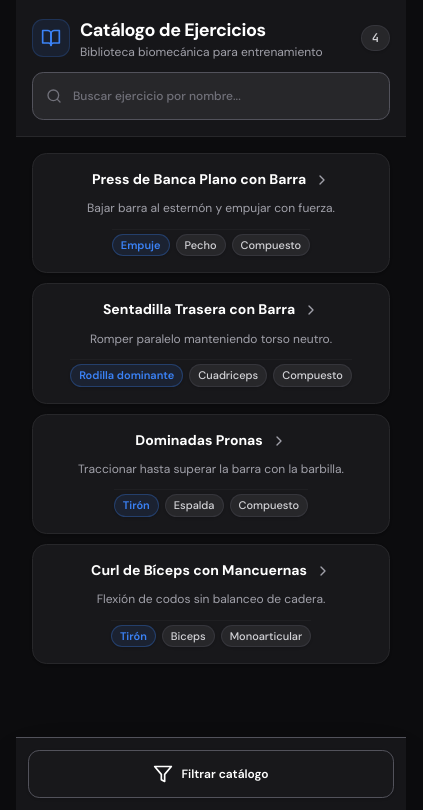
T-22: ExerciseCatalogPage con búsqueda y filtros en mitad inferior (RF-04, RF-05, RF-06, CF-06) › 2. Búsqueda y filtrado interactivo en tiempo real (RF-06, CF-06) › muestra estado vacío accesible en español cuando no hay coincidencias
This screenshot has width=423, height=810.
expect the heading "Press de Banca Plano con Barra" is shown: met, box [92,170,306,189]
Type "Inexistente XYZ" into the field with placeholder "Buscar ejercicio por nombre..." at (211, 96), box [32,72,390,120]
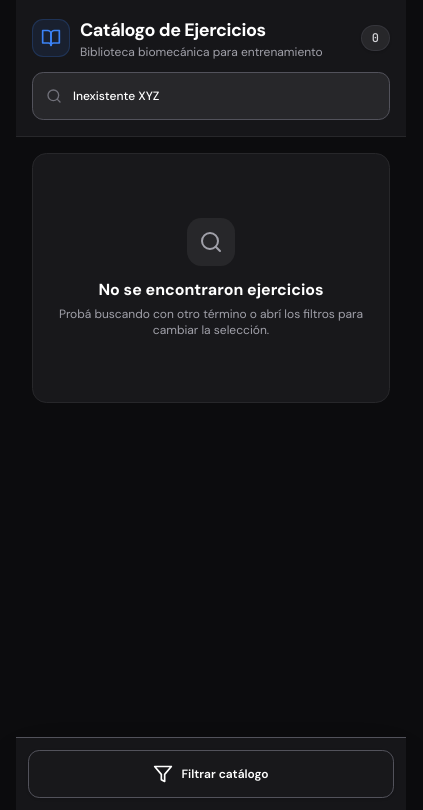
expect the heading "No se encontraron ejercicios" is shown: met, box [98,279,324,300]
